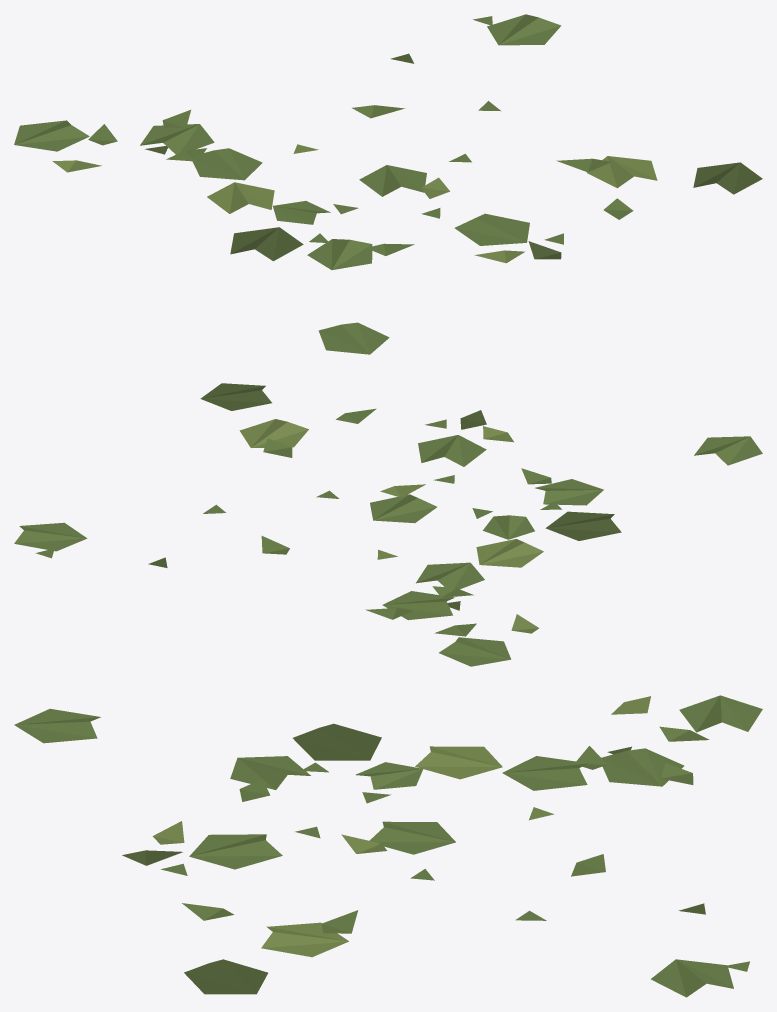
The model's file is Leaves_01.fbx.
The picture shows the model from 3 angles, top to bottom: view 1: azimuth 30°, elevation 25°; view 2: azimuth 150°, elevation 25°; view 3: azimuth 270°, elevation 25°; orthographic projection. The views are drawn at different scales.
Visible parts, largest first — view 1: Leaves_01; view 2: Leaves_01; view 3: Leaves_01.
Boxes of the visible parts, left/top/right/bottom form: Leaves_01: left=14, top=14, right=762, bottom=354; Leaves_01: left=14, top=383, right=762, bottom=666; Leaves_01: left=14, top=695, right=762, bottom=997.
Bounding box in the file's own units: 1.33 × 0.0131 × 1.39.
